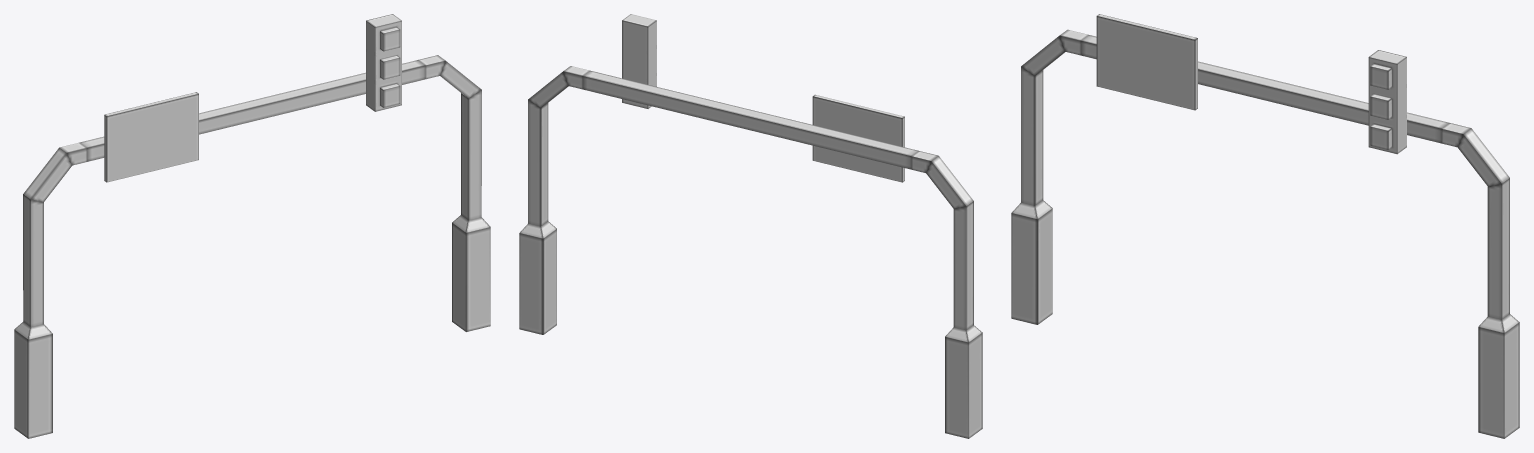
File: Traffic-lights-03.fbx
The picture shows the model from 3 angles, left to right: view 1: azimuth 30°, elevation 25°; view 2: azimuth 150°, elevation 25°; view 3: azimuth 330°, elevation 25°; orthographic projection. The views are drawn at different scales.
Parts seen in each view (by area): view 1: Traffic_lights_03; view 2: Traffic_lights_03; view 3: Traffic_lights_03.
Part boxes in pixels (bbox=[...]): Traffic_lights_03: bbox=[14, 14, 490, 438]; Traffic_lights_03: bbox=[519, 14, 982, 438]; Traffic_lights_03: bbox=[1011, 14, 1519, 438].
Size of the model in its own units: 3.79 by 2.61 by 0.3329.
